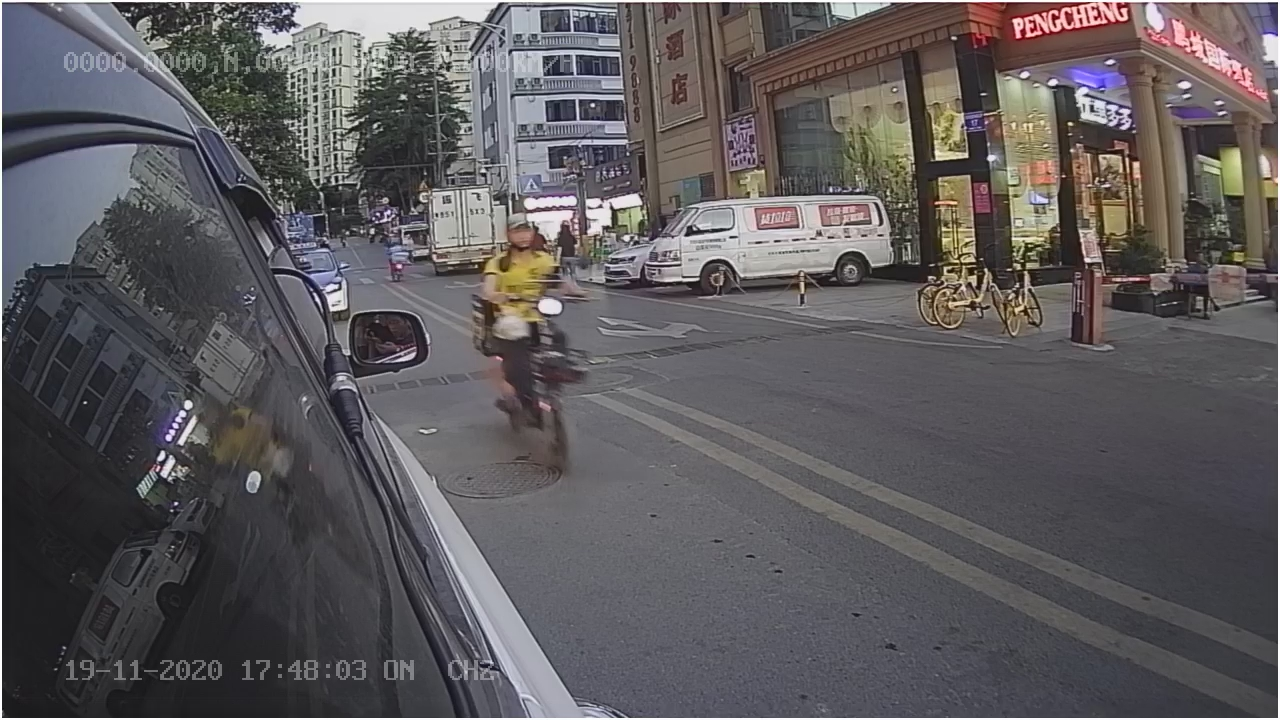person: (488, 217, 564, 328)
